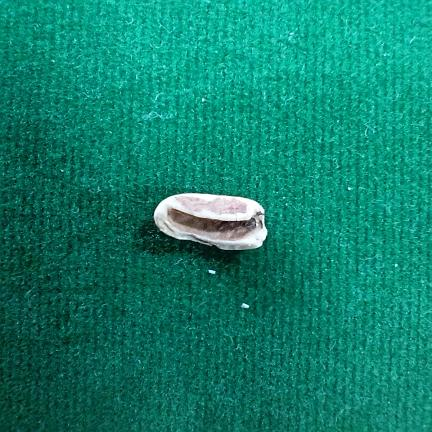shell: (154, 193, 267, 250)
